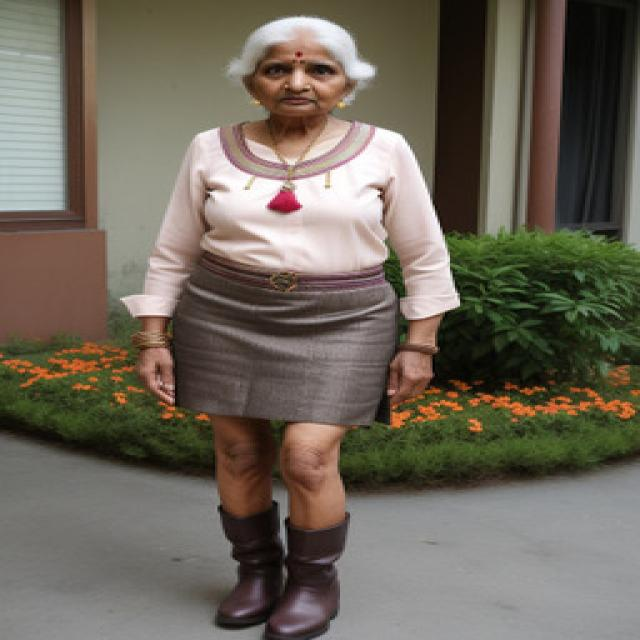Ai human 2: (126, 5, 462, 640)
